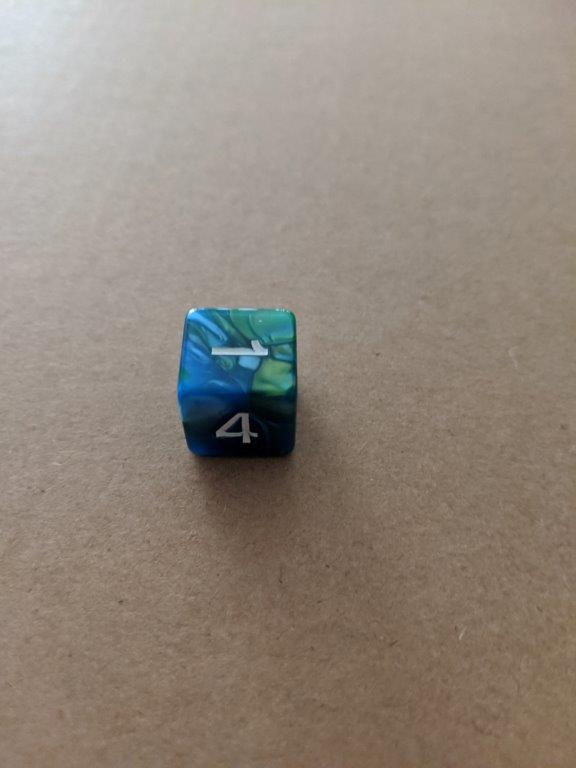d6-1: (175, 306, 301, 466)
